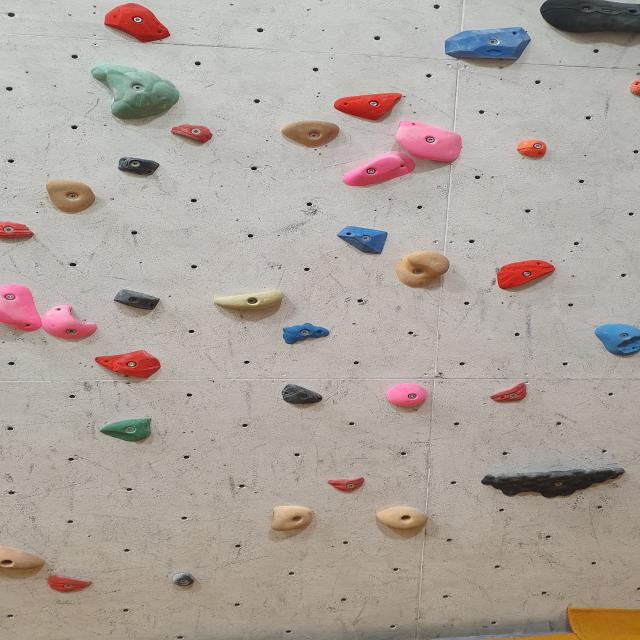Crimp: (443, 29, 529, 64), (338, 154, 410, 192), (102, 6, 169, 46), (97, 351, 159, 382), (334, 94, 406, 120), (498, 259, 552, 290), (278, 384, 329, 406), (44, 575, 93, 597), (170, 125, 213, 145), (326, 477, 374, 493), (0, 222, 41, 240), (491, 384, 526, 405)
Jug: (478, 467, 623, 502), (393, 125, 467, 167), (277, 120, 346, 150), (396, 252, 452, 288), (376, 500, 436, 529), (42, 310, 92, 343), (268, 503, 314, 532), (50, 182, 94, 212)
Pinch: (212, 290, 285, 317), (0, 552, 46, 579), (112, 291, 160, 315), (383, 385, 425, 411), (119, 158, 160, 177), (515, 140, 548, 162), (618, 79, 640, 102), (172, 573, 197, 587)
Sloper: (91, 64, 175, 122), (532, 0, 640, 39), (588, 319, 640, 360), (0, 289, 42, 335), (337, 226, 388, 258), (100, 418, 156, 441), (280, 322, 332, 344)
